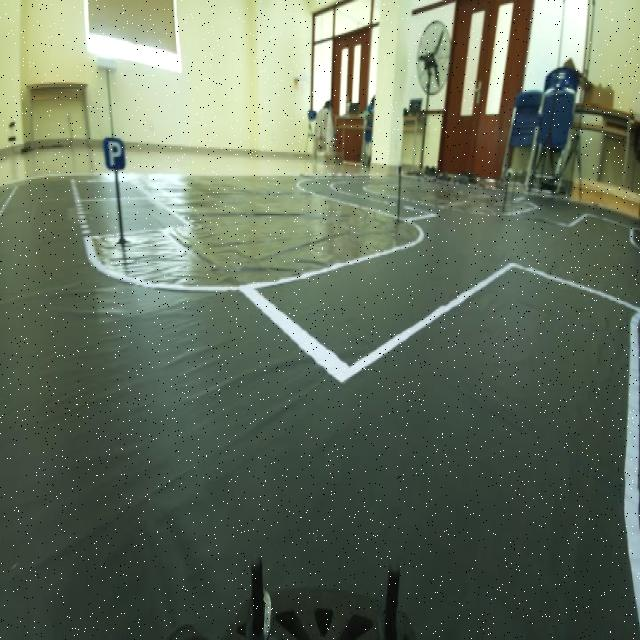parking: (100, 137, 131, 170)
